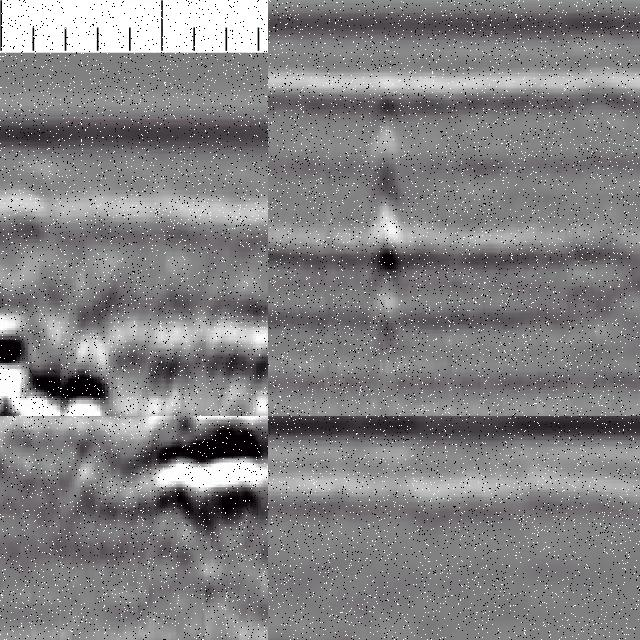crack: (366, 77, 409, 383)
loose: (84, 417, 269, 557), (1, 298, 213, 417)
